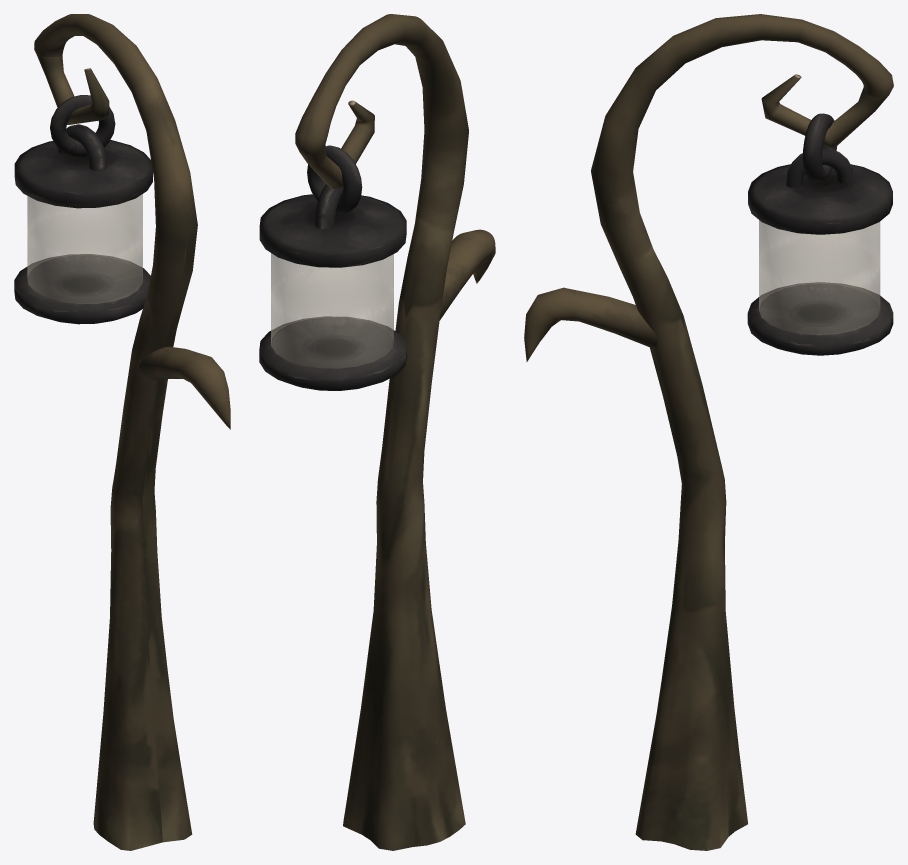
Rendered from branch_Lamp_Model.fbx.
3 renders of one model, left to right at view 1: azimuth 30°, elevation 25°; view 2: azimuth 150°, elevation 25°; view 3: azimuth 270°, elevation 25°, orthographic. The views are drawn at different scales.
Visible parts, largest first — view 1: branch_Lamp_Base, branch_Lamp_Glass; view 2: branch_Lamp_Base, branch_Lamp_Glass; view 3: branch_Lamp_Base, branch_Lamp_Glass.
Part boxes in pixels (<box>): branch_Lamp_Base: <box>14,14,230,850</box>; branch_Lamp_Glass: <box>27,194,142,303</box>; branch_Lamp_Base: <box>259,14,495,850</box>; branch_Lamp_Glass: <box>271,253,393,368</box>; branch_Lamp_Base: <box>524,14,893,850</box>; branch_Lamp_Glass: <box>759,220,880,334</box>.
Bounding box in the file's own units: 4.14 × 25.49 × 10.52.
2 materials, 2 textured.
